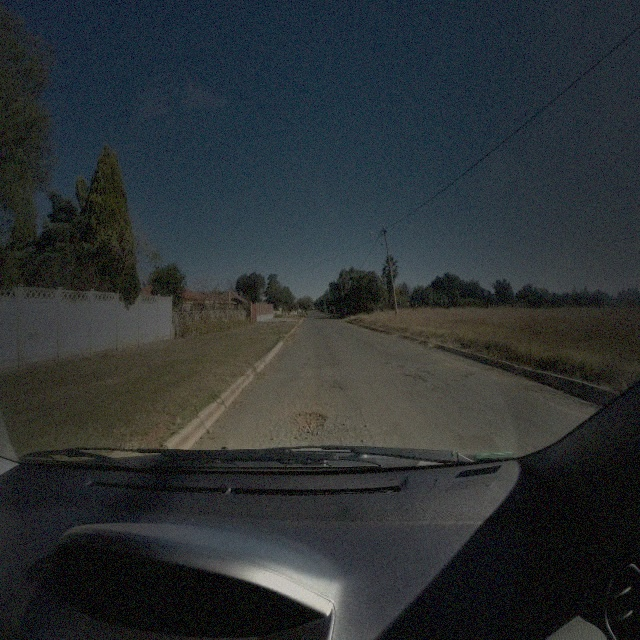pothole: (293, 406, 329, 438), (403, 367, 425, 384)
